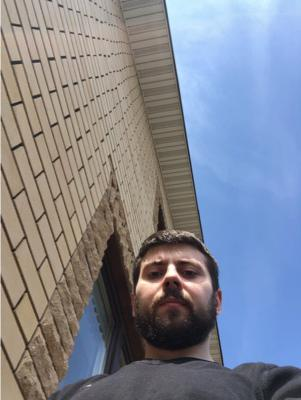without_mask: (136, 256, 211, 349)
